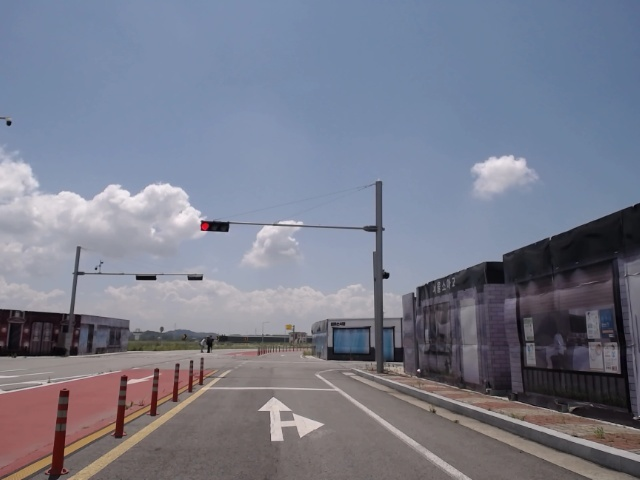red_3: (199, 220, 229, 231)
